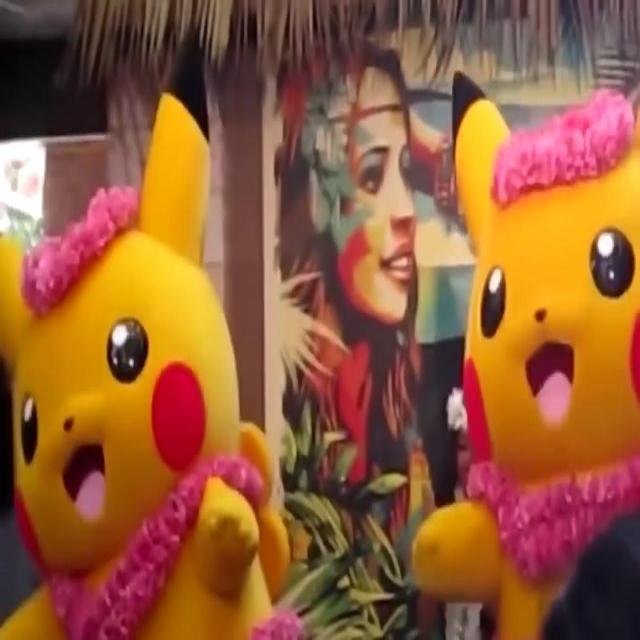pikachu: (0, 26, 274, 636), (412, 71, 640, 640)
